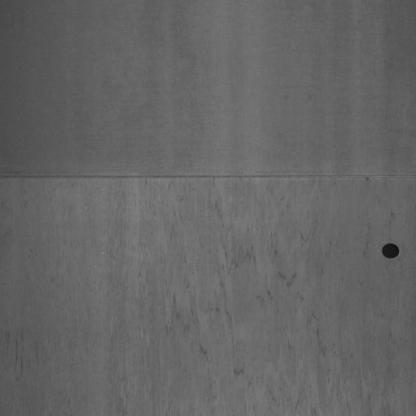oil_spot: (5, 319, 31, 379)
punching_hole: (379, 239, 403, 263)
silk_spot: (156, 200, 344, 410)
welding_line: (3, 160, 414, 190)
